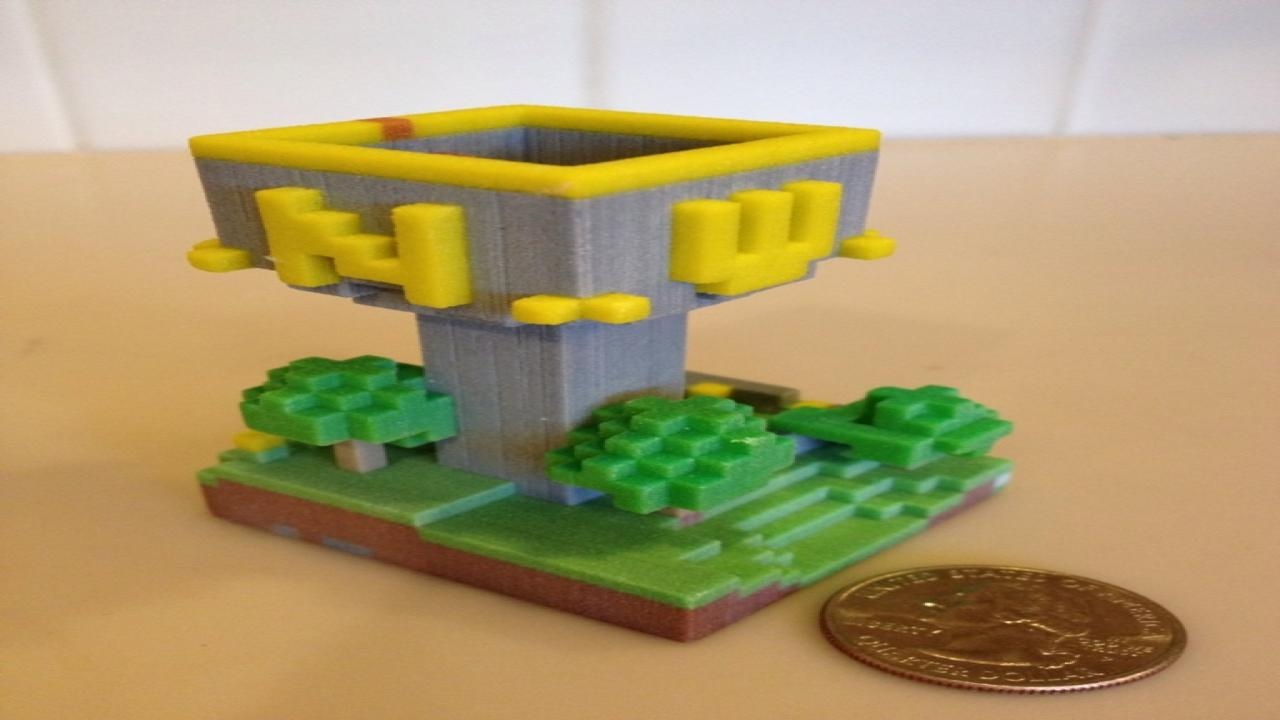coin: (812, 560, 1193, 693)
